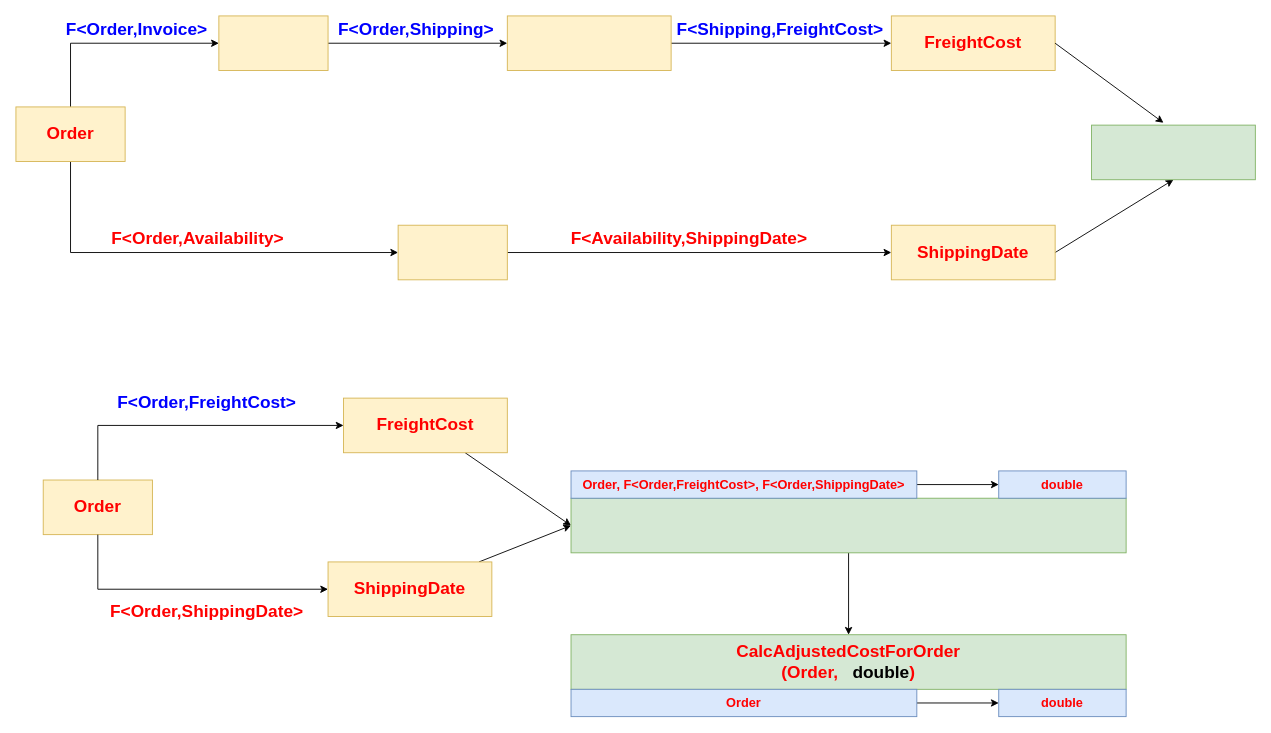
Some shapes in this 1271 by 733 pixel diagram are drawn without their labels. Here are the shapes that lost their labels. From the top down, the centre of each, then its label:
the point at 273,43: Invoice
the point at 588,43: Shipping
the point at 1173,152: AdjustCost
the point at 452,252: Availability
the point at 848,525: AdjustCost (Order, F<Order, FreightCost >, F<Order, ShippingDate >, double )
